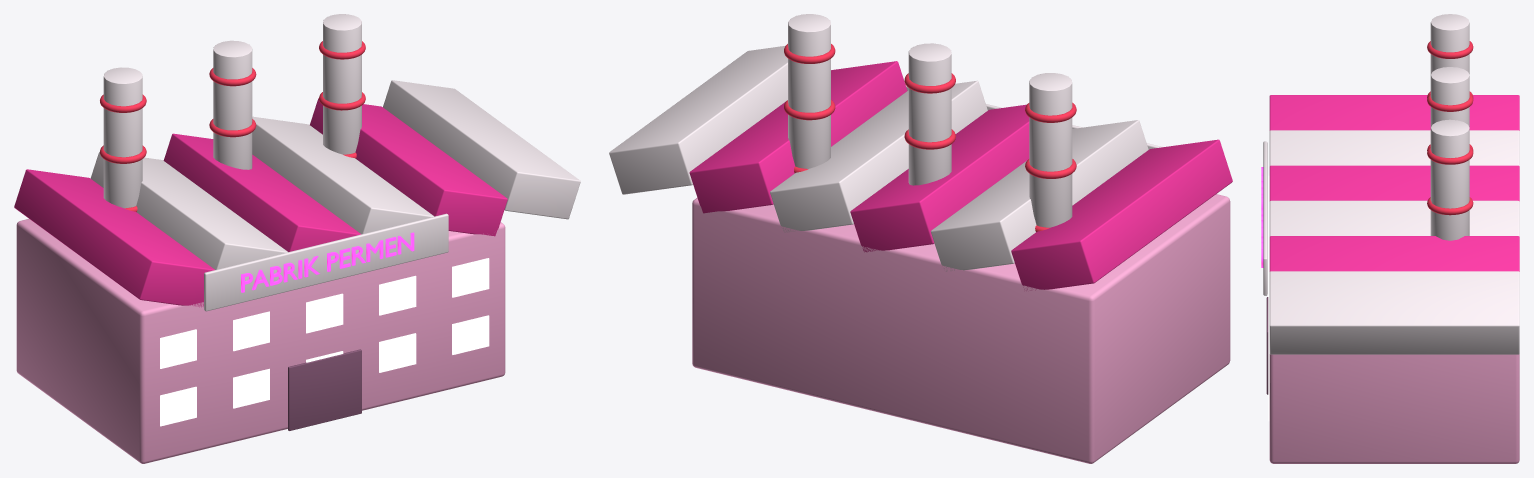
Rendered from pabrik-permen.glb.
3 renders of one model, left to right at view 1: azimuth 30°, elevation 25°; view 2: azimuth 150°, elevation 25°; view 3: azimuth 270°, elevation 25°, orthographic. The views are drawn at different scales.
Visible parts, largest first — view 1: Cube, Cube.001, Cube.006, Cube.005, Cube.004, Cube.003, Cube.017, Cube.002, Cylinder, Cube.018, Cylinder.002, Cylinder.001 (+10 smaller); view 2: Cube, Cube.001, Cube.006, Cube.003, Cube.004, Cube.005, Cube.002, Cylinder, Cylinder.002, Cylinder.001; view 3: Cube, Cube.006, Cube.005, Cube.003, Cube.004, Cube.001, Cube.002, Cylinder.002, Cylinder, Cylinder.001, Cube.017, Torus.016 (+5 smaller).
Boxes of the visible parts, x1,y1,x2,y2 form: Cube: (16,219,505,463); Cube.001: (14,169,214,307); Cube.006: (383,80,580,219); Cube.005: (310,98,507,236); Cube.004: (252,116,433,234); Cube.003: (163,133,360,251); Cube.017: (204,213,448,311); Cube.002: (90,151,287,269); Cylinder: (103,67,142,208); Cube.018: (288,349,361,430); Cylinder.002: (323,14,361,154); Cylinder.001: (213,40,252,169); Cube: (692,194,1230,463); Cube.001: (1011,139,1232,290); Cube.006: (609,45,787,194); Cube.003: (850,104,1029,252); Cube.004: (770,80,987,232); Cube.005: (689,61,907,213); Cube.002: (931,120,1148,271); Cylinder: (1029,73,1072,227); Cylinder.002: (788,14,830,168); Cylinder.001: (908,43,951,185); Cube: (1269,354,1519,463); Cube.006: (1269,271,1519,354); Cube.005: (1269,236,1519,271); Cube.003: (1269,165,1519,201); Cube.004: (1269,200,1519,236); Cube.001: (1269,95,1519,130); Cube.002: (1269,130,1519,165); Cylinder.002: (1430,119,1469,240); Cylinder: (1430,14,1469,74); Cylinder.001: (1430,67,1469,127); Cube.017: (1263,141,1267,295); Torus.016: (1427,197,1473,215).
Bounding box in the file's own units: 36.23 × 24 × 18.6.
